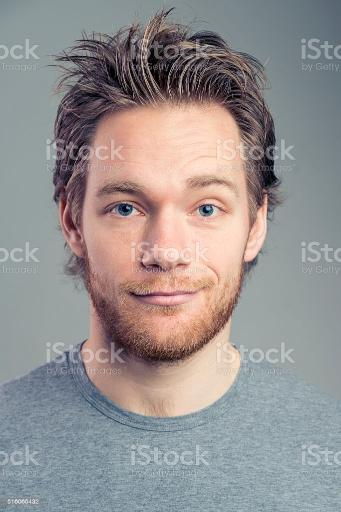left_eye: (187, 201, 230, 221)
left_lip_corner: (196, 283, 212, 300)
right_eye: (103, 200, 147, 220)
right_lip_corner: (129, 289, 148, 305)
